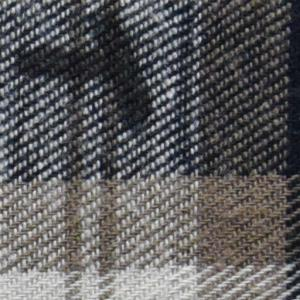Stain: (11, 9, 159, 141)
